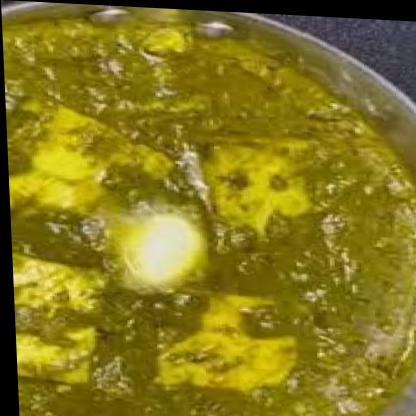palak_paneer: (0, 13, 416, 416)
